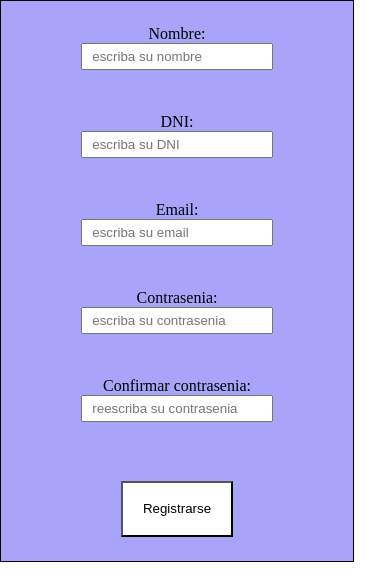
Scenario: - Test FormularioRegister - › - Aparecen los errores correctamente - › Aparece el error del email invalido
The width and height of the screenshot is (371, 579).
In the field labelled "Email": coordinates (177, 232) top-left (81, 219), bottom-right (273, 246), type "12471941"
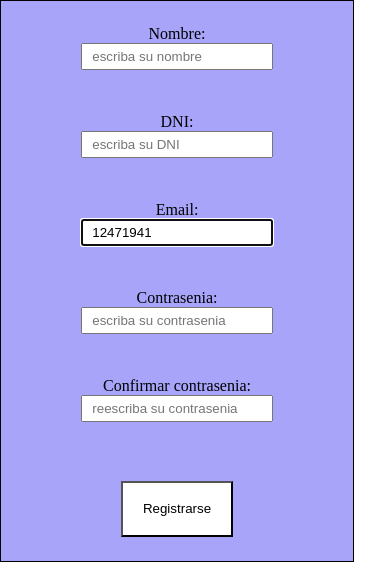
Click the button "Registrarse": coordinates (177, 509) top-left (121, 481), bottom-right (233, 537)
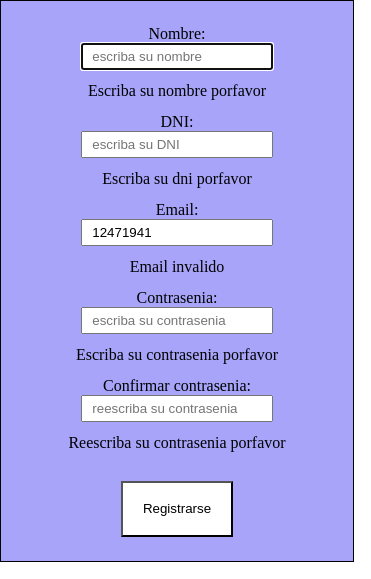
Expected: the text named "email-error" is shown, top-left (130, 258), bottom-right (224, 276)
